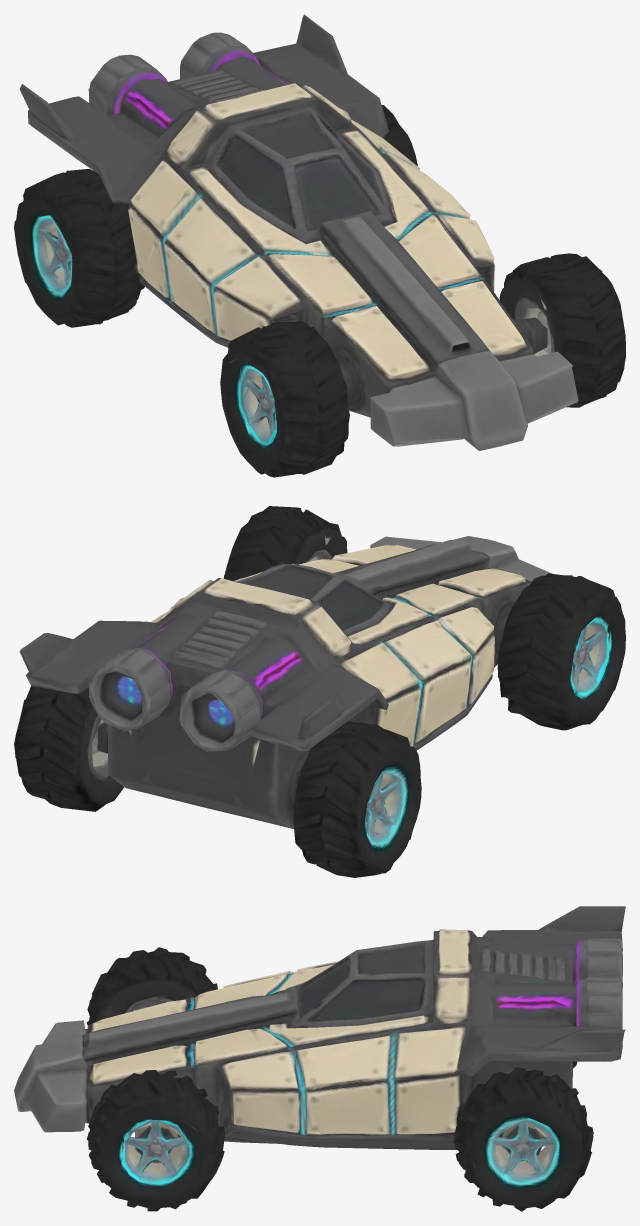
Rendered from chaser.glb.
3 renders of one model, top to bottom at view 1: azimuth 30°, elevation 25°; view 2: azimuth 150°, elevation 25°; view 3: azimuth 270°, elevation 25°, orthographic. The views are drawn at different scales.
Parts seen in each view (by area): view 1: body; view 2: body; view 3: body.
Boxes of the visible parts, x1=… form: body: x1=14, y1=14, x2=625, y2=477; body: x1=14, y1=506, x2=625, y2=877; body: x1=14, y1=906, x2=625, y2=1211.
Bounding box in the file's own units: 0.5828 × 0.347 × 0.9981.
1 material, 1 textured.
